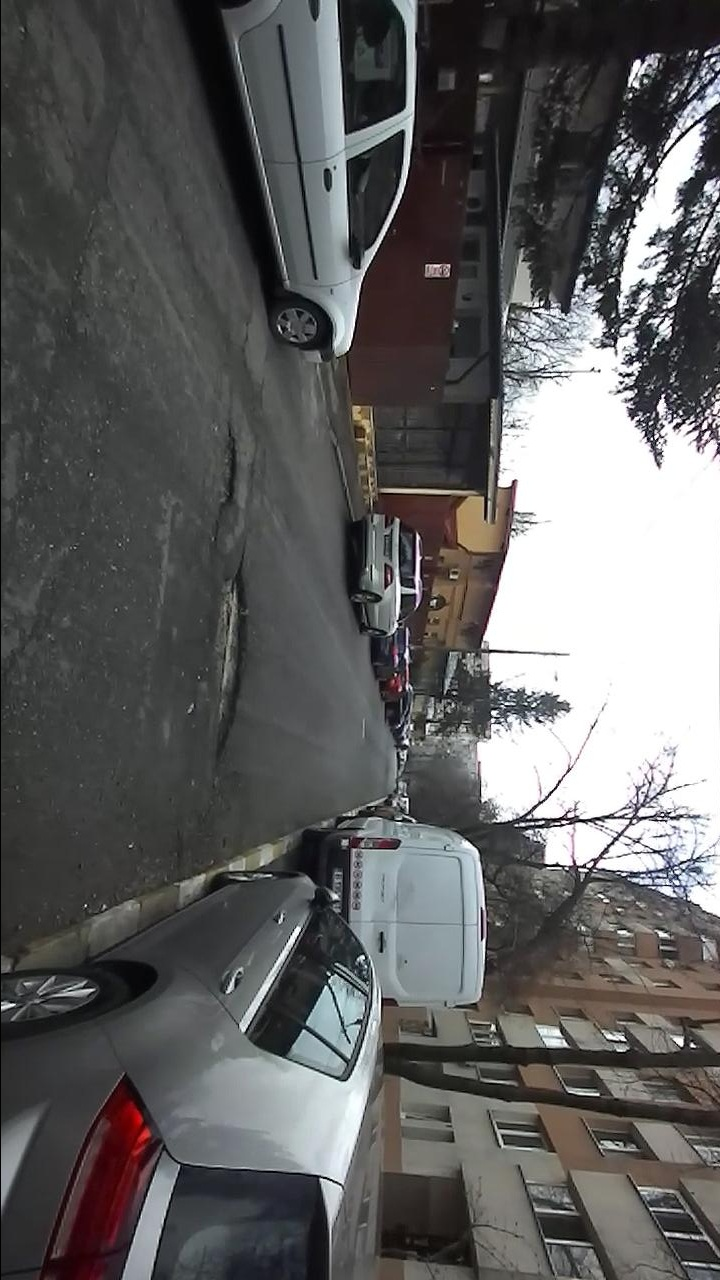pothole: (206, 552, 249, 788), (208, 419, 243, 545)
